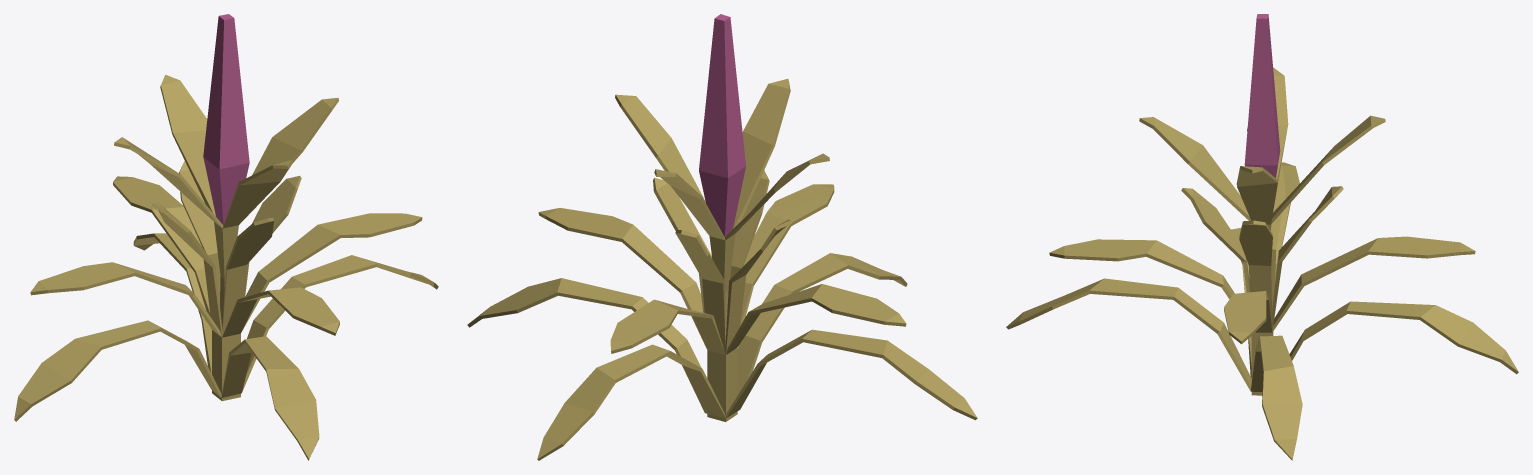
The model's file is plant_5.glb.
The picture shows the model from 3 angles, left to right: view 1: azimuth 30°, elevation 25°; view 2: azimuth 150°, elevation 25°; view 3: azimuth 270°, elevation 25°; orthographic projection. The views are drawn at different scales.
Parts seen in each view (by area): view 1: Plant_5; view 2: Plant_5; view 3: Plant_5.
Boxes of the visible parts, box(x1,y1,x2,y2) form: Plant_5: box(14, 14, 438, 460); Plant_5: box(467, 14, 977, 460); Plant_5: box(1006, 14, 1518, 460).
Bounding box in the file's own units: 1.74 × 1.39 × 1.72.
